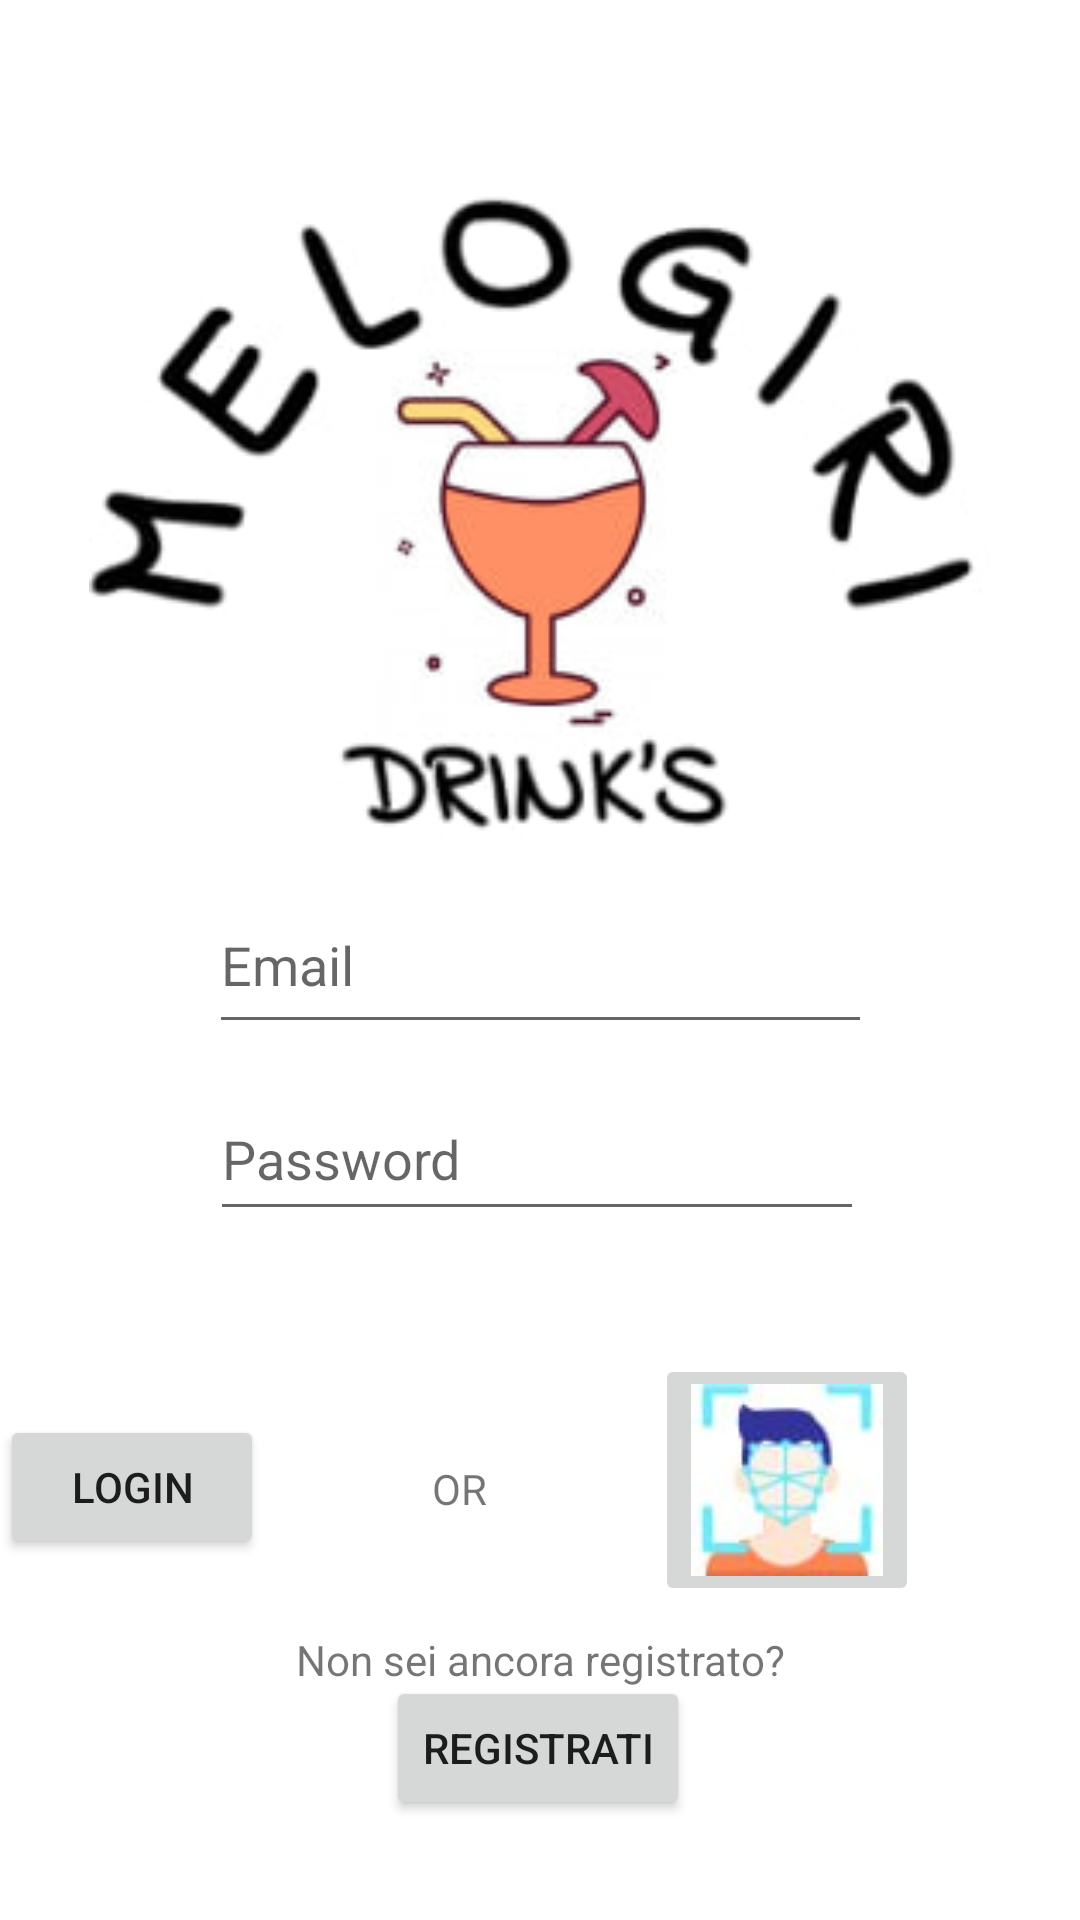

Icons on this 1080w x 1920h Android screen, each with its box as (x1, y1, x2, y2):
login faceid: (667, 1372, 907, 1588)
